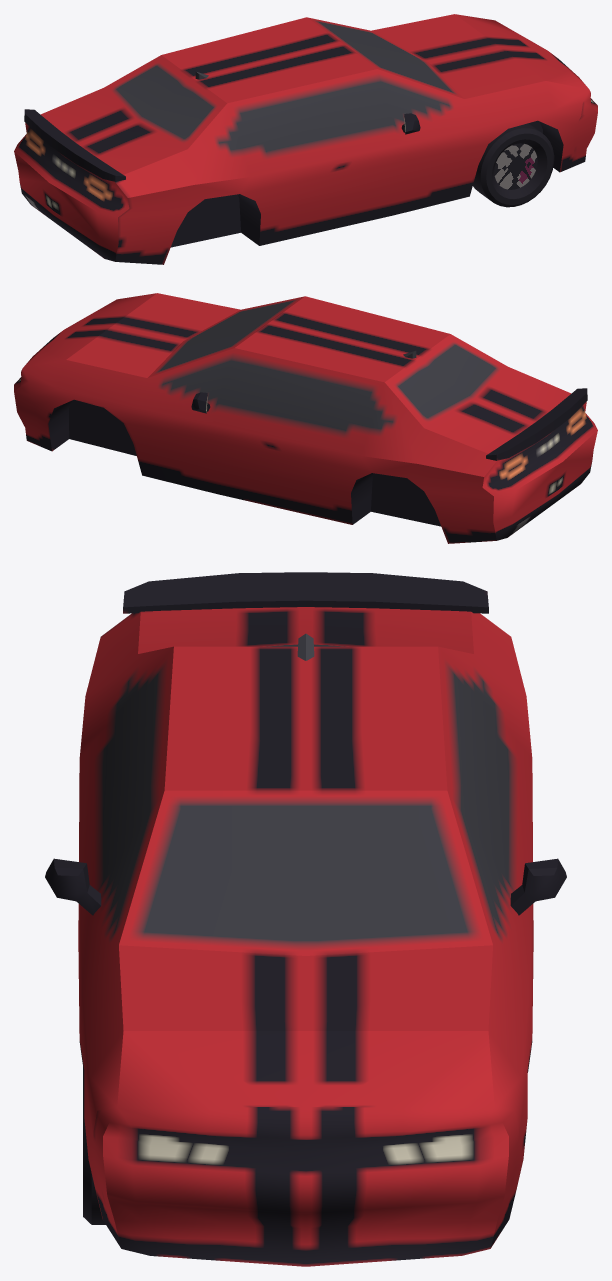
Rendered from DodgeChallanger.fbx.
3 views of the same model, one above another, from view 1: azimuth 30°, elevation 25°; view 2: azimuth 150°, elevation 25°; view 3: azimuth 270°, elevation 25° (orthographic). The views are drawn at different scales.
Parts seen in each view (by area): view 1: Car, Wheel; view 2: Car; view 3: Car, Wheel.
Part boxes in pixels (bbox=[...]): Car: bbox=[14, 14, 597, 264]; Wheel: bbox=[473, 123, 554, 207]; Car: bbox=[14, 293, 597, 543]; Car: bbox=[45, 572, 566, 1266]; Wheel: bbox=[83, 1063, 105, 1224].
Bounding box in the file's own units: 2.19 × 5.01 × 1.49.
